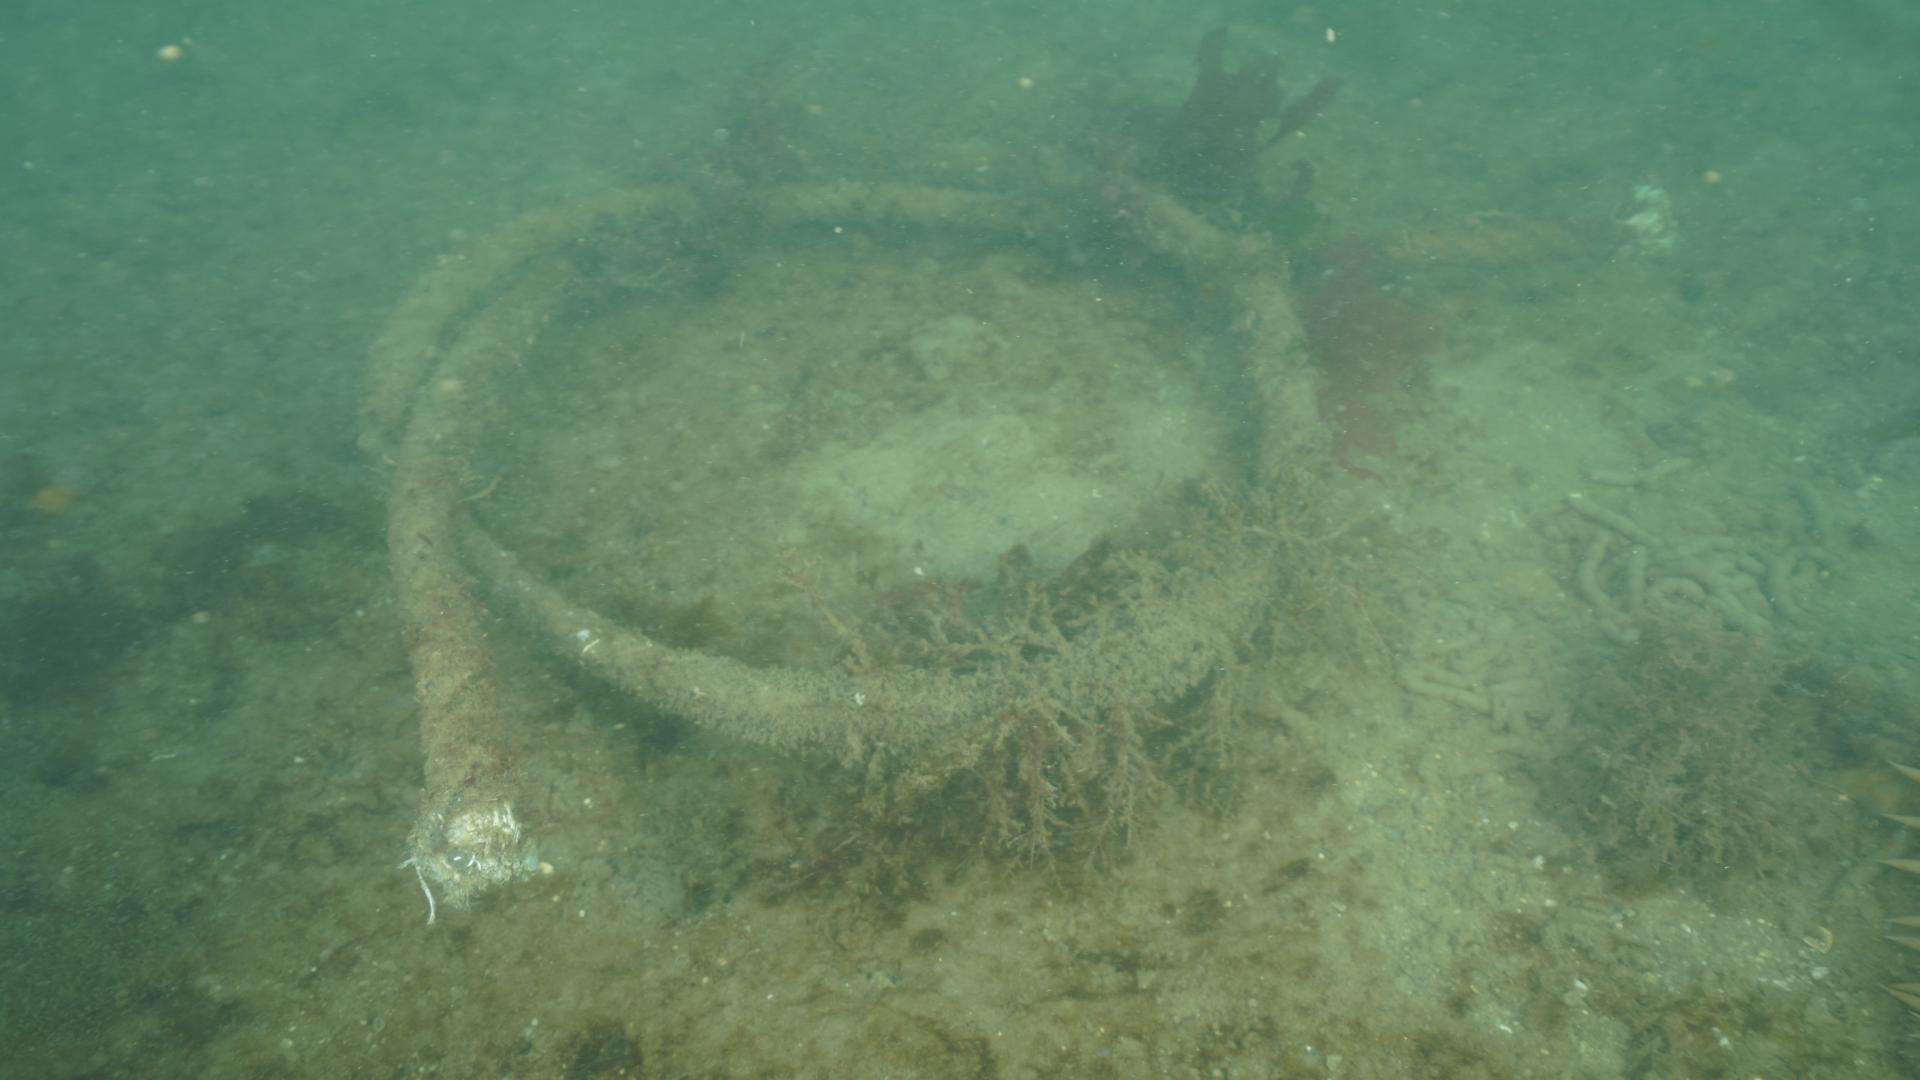bundle of ropes: (349, 124, 1324, 926)
